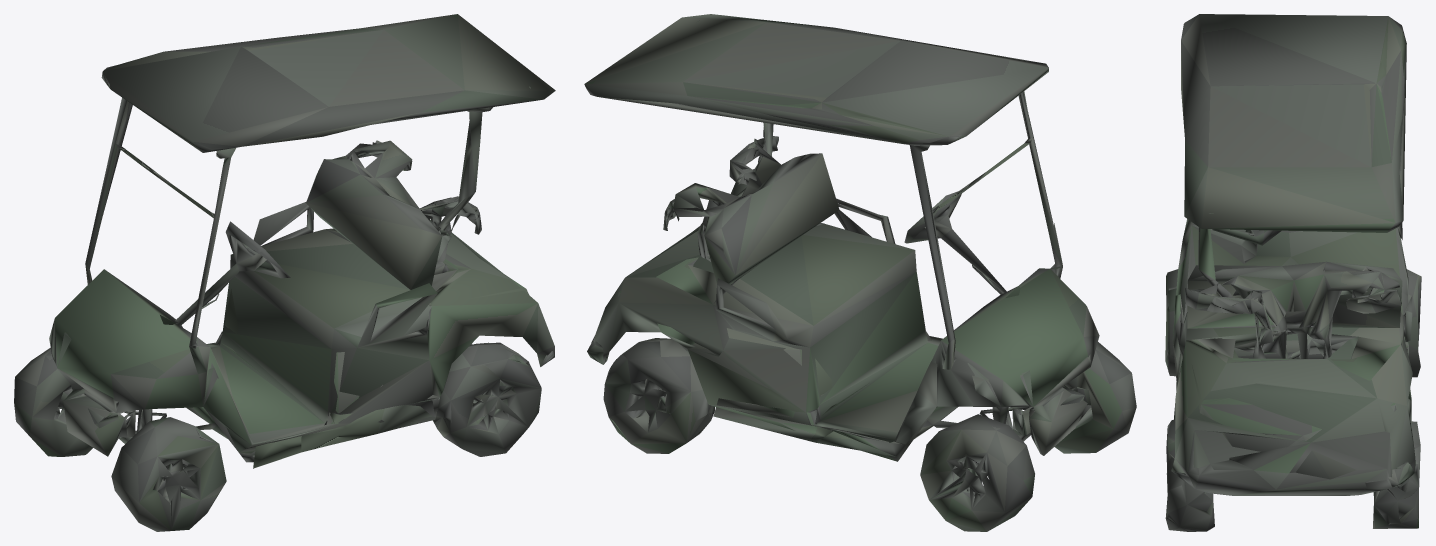
The model's file is cart.glb.
3 renders of one model, left to right at view 1: azimuth 30°, elevation 25°; view 2: azimuth 150°, elevation 25°; view 3: azimuth 270°, elevation 25°, orthographic.
Parts seen in each view (by area): view 1: LO.001; view 2: LO.001; view 3: LO.001.
Boxes of the visible parts, x1=… form: LO.001: x1=14, y1=14, x2=555, y2=531; LO.001: x1=584, y1=14, x2=1136, y2=531; LO.001: x1=1165, y1=14, x2=1421, y2=531.
Size of the model in its own units: 1.92 by 1.53 by 0.9507.
1 material, 1 textured.
